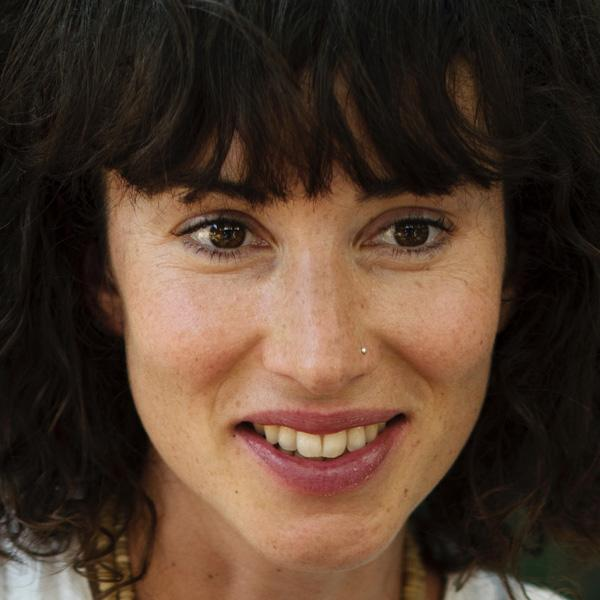Eyes: (162, 200, 282, 272), (352, 198, 471, 268)
